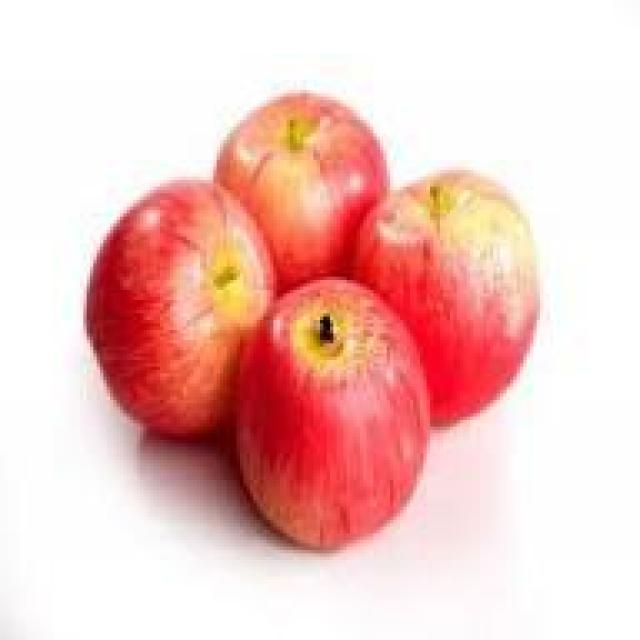apple: (353, 170, 537, 423), (236, 290, 426, 533), (90, 183, 273, 410), (217, 100, 403, 277)
